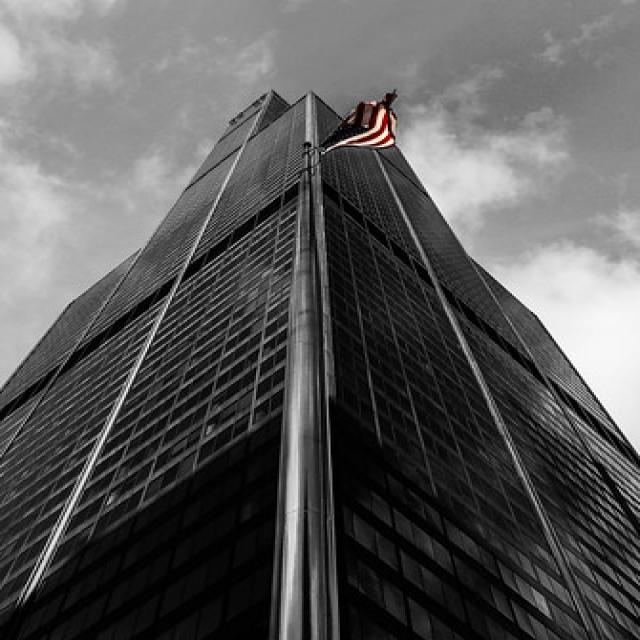Normal_building: (7, 86, 640, 639)
